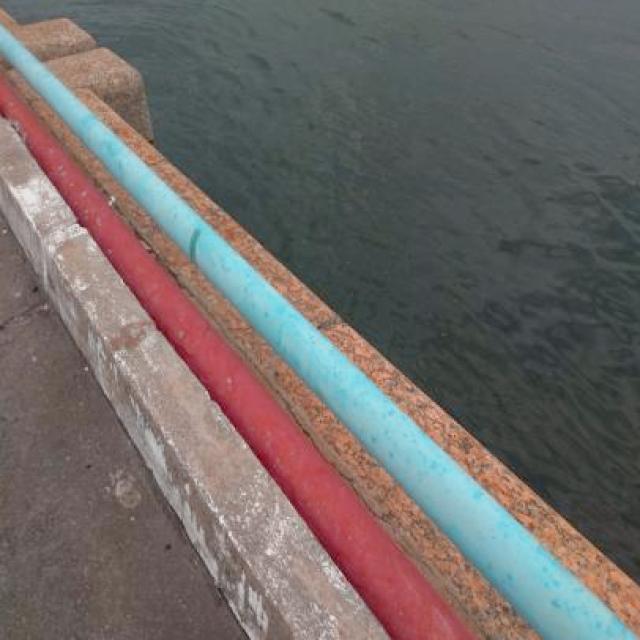gas: (0, 22, 638, 640), (0, 71, 475, 640)
